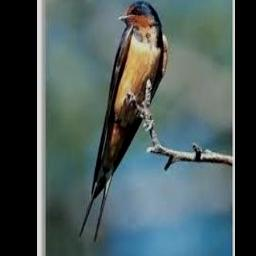Swallow: (79, 0, 169, 241)
